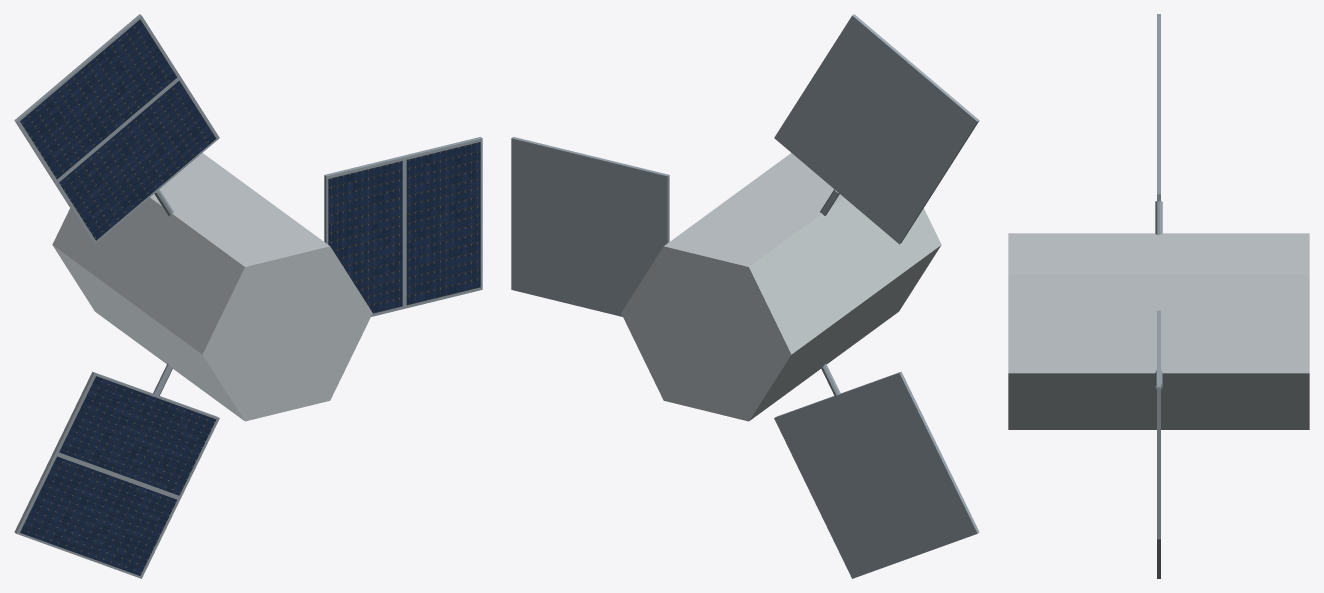
File: ref-cas500-47932.glb
The picture shows the model from 3 angles, left to right: view 1: azimuth 30°, elevation 25°; view 2: azimuth 150°, elevation 25°; view 3: azimuth 270°, elevation 25°; orthographic projection.
Visible parts, largest first — view 1: Photovoltaic laminates (×6), Spacecraft body, Array frame (×6); view 2: Array frame (×6), Spacecraft body; view 3: Spacecraft body, Array frame (×2).
Part boxes in pixels (<box>): Photovoltaic laminates (×6): <box>20,19,480,575</box>; Spacecraft body: <box>52,153,372,421</box>; Array frame (×6): <box>14,14,482,578</box>; Array frame (×6): <box>511,14,979,578</box>; Spacecraft body: <box>621,153,941,421</box>; Spacecraft body: <box>1008,233,1309,429</box>; Array frame (×2): <box>1157,104,1160,539</box>.
Bounding box in the file's own units: 5.2 × 6 × 2.9.
Materials: 3 (1 with a texture image).
